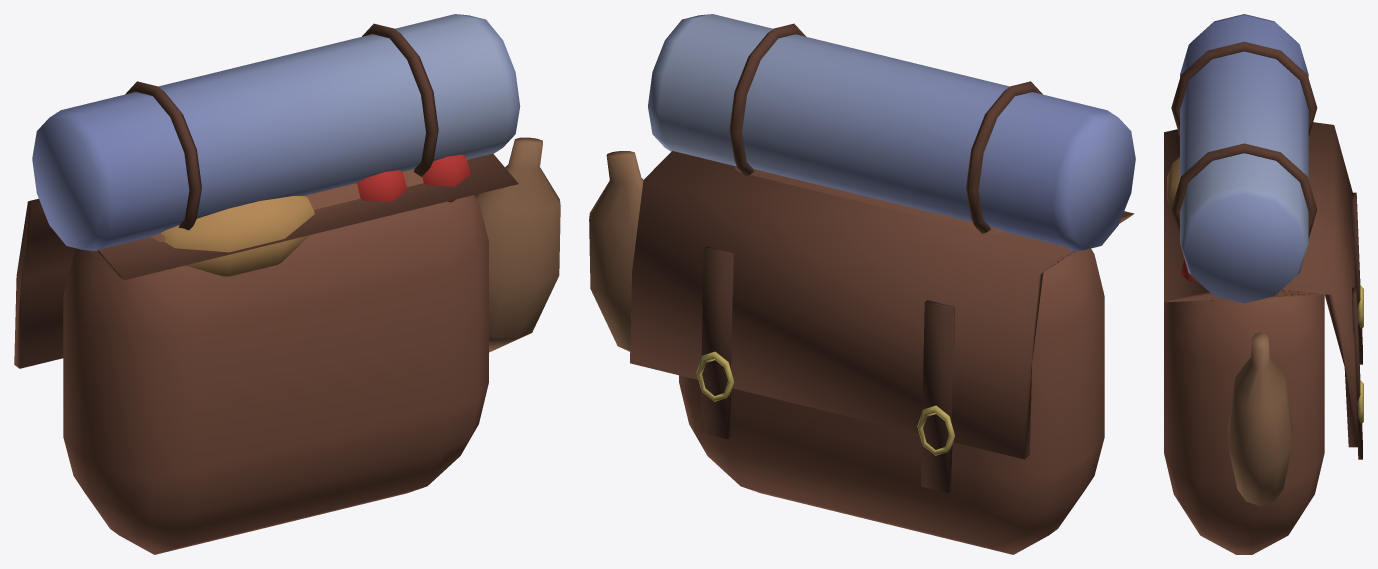
The model's file is supply_satchel.glb.
3 renders of one model, left to right at view 1: azimuth 30°, elevation 25°; view 2: azimuth 150°, elevation 25°; view 3: azimuth 270°, elevation 25°, orthographic. The views are drawn at different scales.
Visible parts, largest first — view 1: supply_satchel; view 2: supply_satchel; view 3: supply_satchel.
Boxes of the visible parts, left/top/right/bottom form: supply_satchel: left=14, top=14, right=560, bottom=554; supply_satchel: left=589, top=14, right=1135, bottom=554; supply_satchel: left=1164, top=14, right=1363, bottom=554.
Size of what is drawn, in the model's own units: 0.641 by 0.561 by 0.249.
